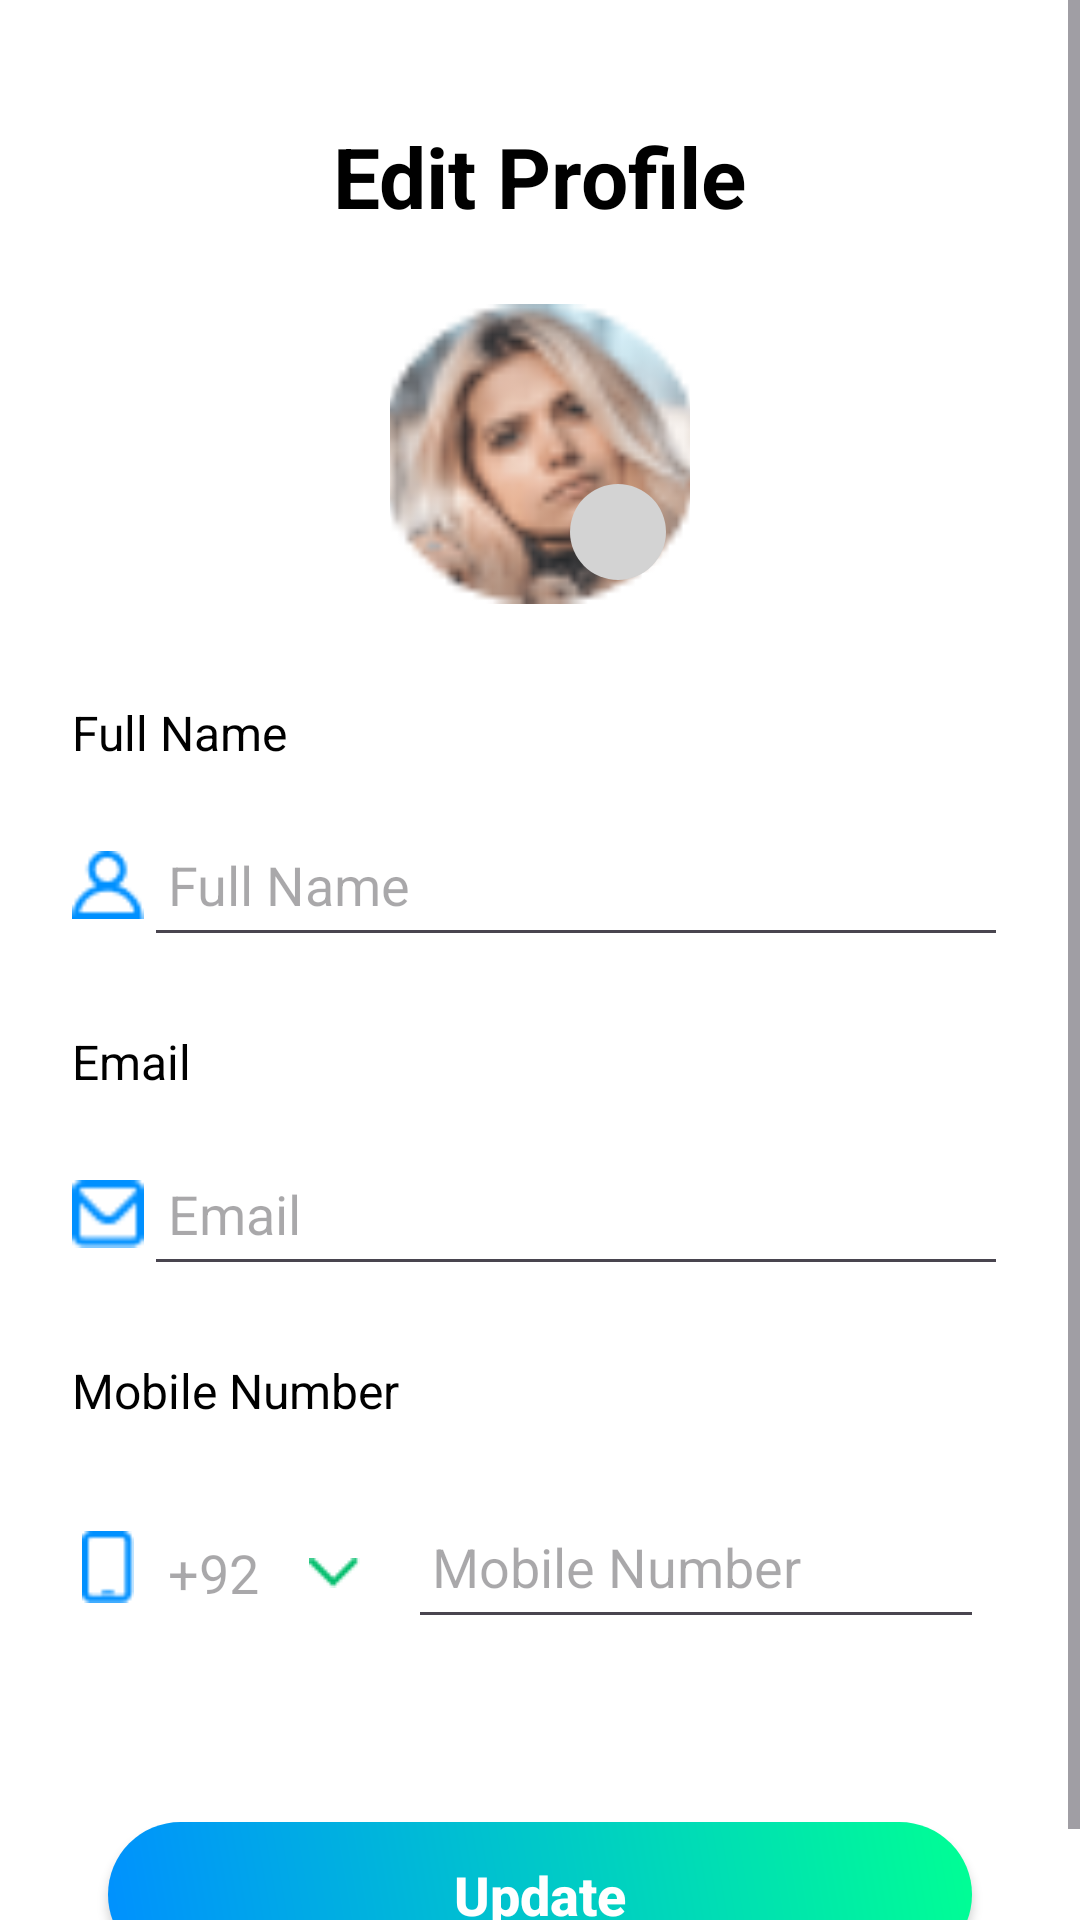

Where to tap for icons on this 1080 x 1920 app screen, as [x,y]:
person: [108,885]
phone: [108,1567]
